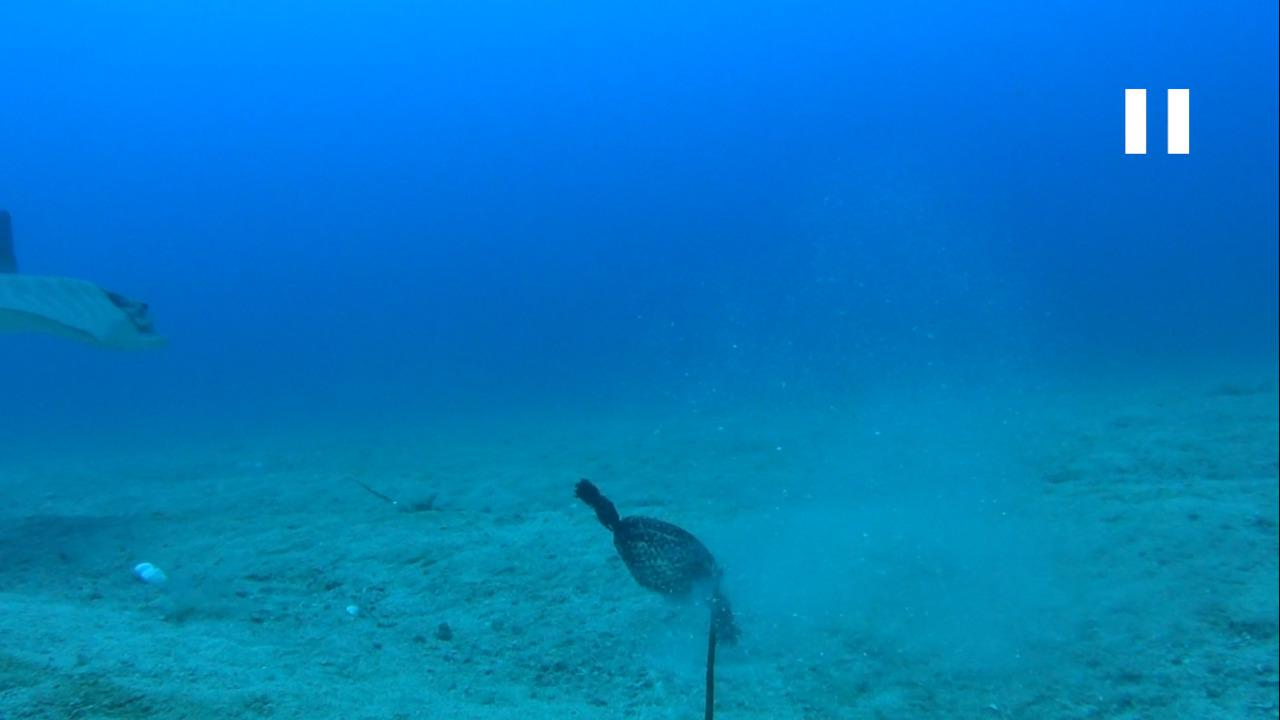myliobatis: (3, 211, 165, 355)
